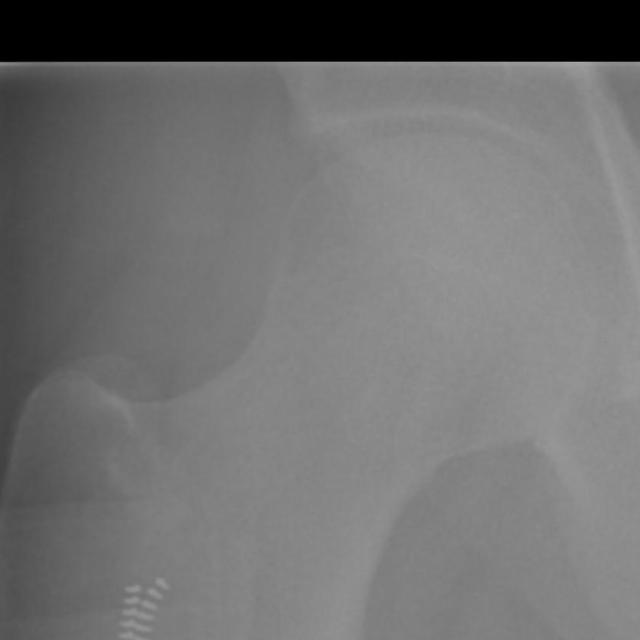Fitted_femural_head: (334, 134, 432, 334)
